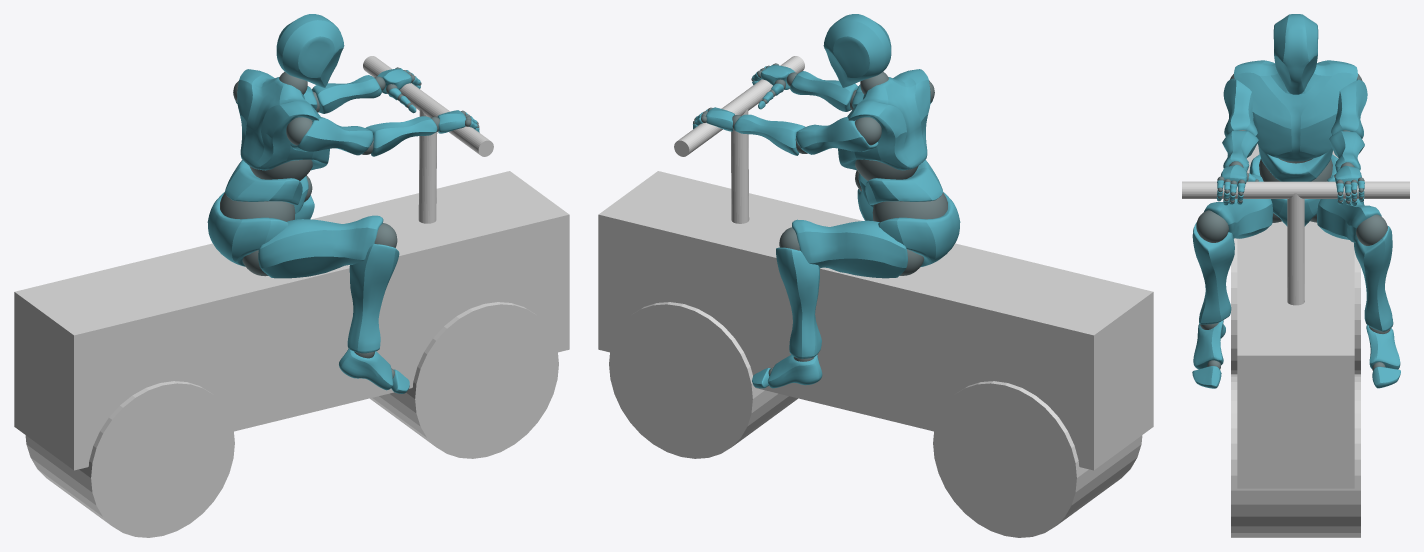
The model's file is source.fbx.
3 views of the same model, side by side, from view 1: azimuth 30°, elevation 25°; view 2: azimuth 150°, elevation 25°; view 3: azimuth 270°, elevation 25° (orthographic).
Parts seen in each view (by area): view 1: 柱体.001, Alpha_Surface, Alpha_Joints, 柱体, 柱体.002; view 2: 柱体.001, Alpha_Surface, Alpha_Joints, 柱体, 柱体.002; view 3: 柱体.001, Alpha_Surface, 柱体, Alpha_Joints, 柱体.002.
Boxes of the visible parts, left/top/right/bottom form: 柱体.001: left=14, top=171, right=569, bottom=537; Alpha_Surface: left=207, top=14, right=479, bottom=393; Alpha_Joints: left=220, top=67, right=479, bottom=378; 柱体: left=363, top=56, right=493, bottom=156; 柱体.002: left=418, top=109, right=437, bottom=223; 柱体.001: left=598, top=171, right=1153, bottom=537; Alpha_Surface: left=693, top=14, right=960, bottom=388; Alpha_Joints: left=693, top=63, right=947, bottom=376; 柱体: left=674, top=56, right=804, bottom=156; 柱体.002: left=731, top=109, right=749, bottom=223; 柱体.001: left=1231, top=144, right=1360, bottom=537; Alpha_Surface: left=1192, top=14, right=1400, bottom=388; 柱体: left=1182, top=181, right=1409, bottom=198; Alpha_Joints: left=1196, top=74, right=1390, bottom=370; 柱体.002: left=1287, top=193, right=1304, bottom=305.
Bounding box in the file's own units: 203 × 176 × 81.94.
